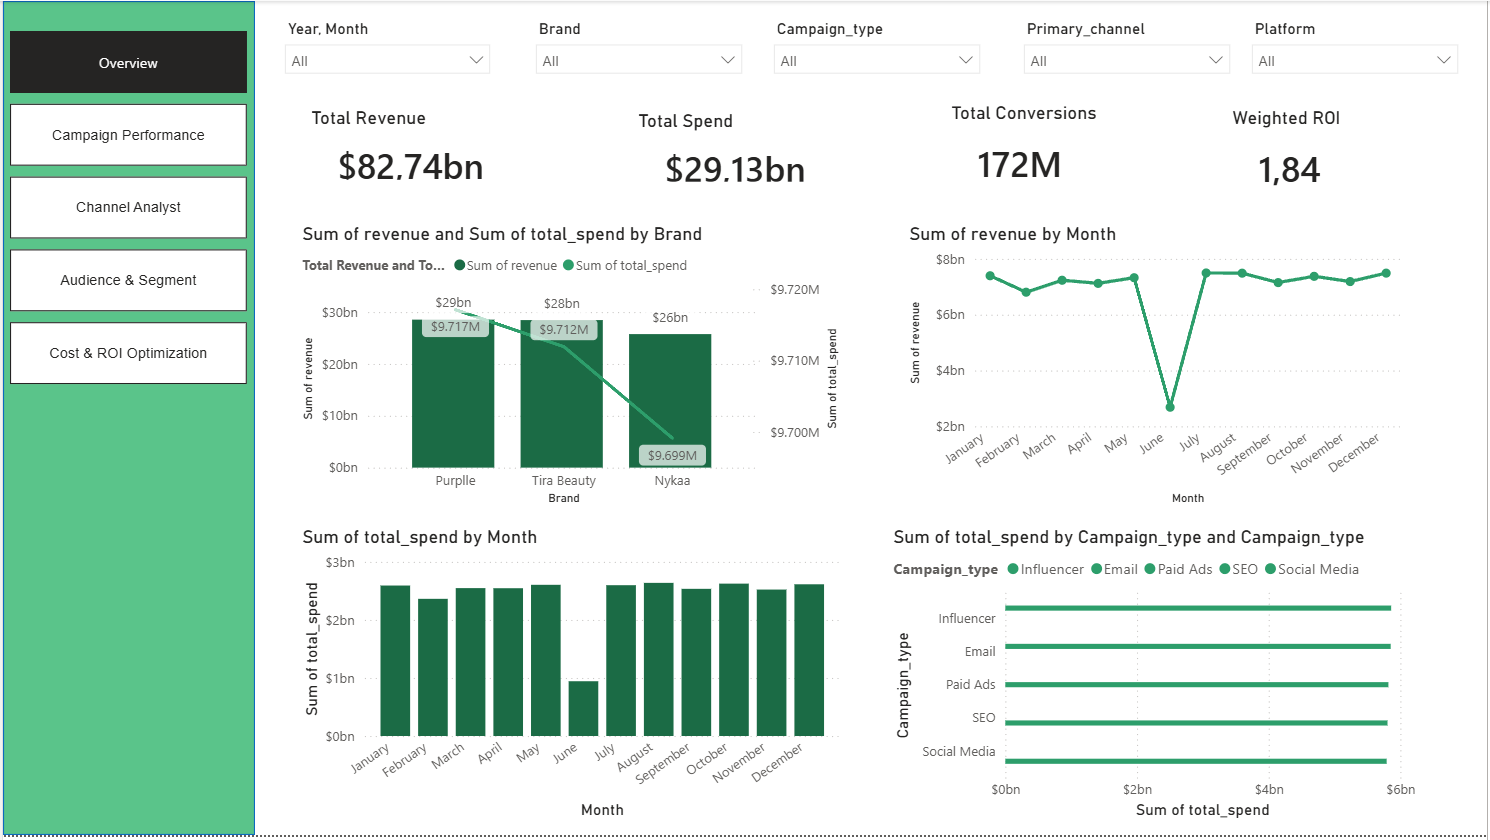

The dashboard page shown, as its layout file describes it:
{"tool":"powerbi","page":{"name":"Overview","canvas":[1366,768],"ordinal":0},"visuals":[{"type":"cardVisual","title":"Total Revenue","fields":{"Data":["Sum(FactMarketing.revenue)"]},"box":[278.9,97.6,201.6,84.7],"z":0},{"type":"cardVisual","title":"Total Spend","fields":{"Data":["Sum(FactMarketing.total_spend)"]},"box":[579.9,100.3,195.1,83.8],"z":1000},{"type":"cardVisual","title":"Total Conversions","fields":{"Data":["Sum(FactMarketing.conversions)"]},"box":[868,93,157.4,89.3],"z":2000},{"type":"cardVisual","title":"Weighted ROI","fields":{"Data":["FactMarketing.Weight_ROI"]},"box":[1126.7,97.6,117.8,89.3],"z":3000},{"type":"lineStackedColumnComboChart","fields":{"Category":["DimBrand.brand"],"Y":["Sum(FactMarketing.revenue)"],"Y2":["Sum(FactMarketing.total_spend)"]},"box":[270.6,204.3,503.5,264.2],"z":4000},{"type":"lineChart","fields":{"Y":["Sum(FactMarketing.revenue)"],"Category":["DimDate.campaign_date.Variation.Date Hierarchy.Month"]},"box":[829.4,204.3,462.1,264.2],"z":5000},{"type":"clusteredBarChart","fields":{"Category":["DimCampaignType.campaign_type"],"Y":["Sum(FactMarketing.total_spend)"],"Series":["DimCampaignType.campaign_type"]},"box":[814.6,483.3,490.6,274.3],"z":6000},{"type":"shape","box":[0,0,232,767.7],"z":7000},{"type":"slicer","fields":{"Values":["DimDate.campaign_date.Variation.Date Hierarchy.Year","DimDate.campaign_date.Variation.Date Hierarchy.Month"]},"box":[249.8,12.3,209.3,59.4],"z":8000},{"type":"slicer","fields":{"Values":["DimBrand.brand"]},"box":[480.5,12,209.9,84.7],"z":9000},{"type":"slicer","fields":{"Values":["DimCampaignType.campaign_type"]},"box":[699.6,12,209.9,84.7],"z":10000},{"type":"slicer","fields":{"Values":["DimPrimaryChannel.primary_channel"]},"box":[929.7,12,209.9,84.7],"z":11000},{"type":"slicer","fields":{"Values":["FactMarketing.Platform "]},"box":[1139.6,12,209.9,84.7],"z":12000},{"type":"clusteredColumnChart","fields":{"Category":["DimDate.campaign_date.Variation.Date Hierarchy.Month"],"Y":["Sum(FactMarketing.total_spend)"]},"box":[270.6,483.3,504.4,274.3],"z":13000},{"type":"pageNavigator","box":[6,27.6,218.2,325.2],"z":14000}]}

Visuals, with their boxes in screenshot pixels (x1, y1, x2, y2), scaled from the page's 1366x768 canvas onto the 1490x840 screenshot:
"Total Revenue" cardVisual: 304/107/524/199
"Total Spend" cardVisual: 633/110/845/201
"Total Conversions" cardVisual: 947/102/1118/199
"Weighted ROI" cardVisual: 1229/107/1357/204
lineStackedColumnComboChart - DimBrand.brand x Sum(FactMarketing.revenue): 295/223/844/512
lineChart - Sum(FactMarketing.revenue) x DimDate.campaign_date.Variation.Date Hierarchy.Month: 905/223/1409/512
clusteredBarChart - DimCampaignType.campaign_type x Sum(FactMarketing.total_spend): 889/529/1424/829
shape: 0/0/253/839
slicer - DimDate.campaign_date.Variation.Date Hierarchy.Year x DimDate.campaign_date.Variation.Date Hierarchy.Month: 272/13/501/78
slicer - DimBrand.brand: 524/13/753/106
slicer - DimCampaignType.campaign_type: 763/13/992/106
slicer - DimPrimaryChannel.primary_channel: 1014/13/1243/106
slicer - FactMarketing.Platform : 1243/13/1472/106
clusteredColumnChart - DimDate.campaign_date.Variation.Date Hierarchy.Month x Sum(FactMarketing.total_spend): 295/529/845/829
pageNavigator: 7/30/245/386
